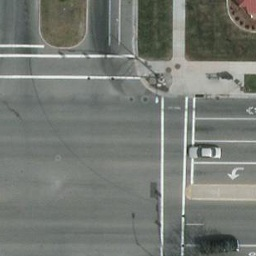car: (186, 143, 222, 159)
